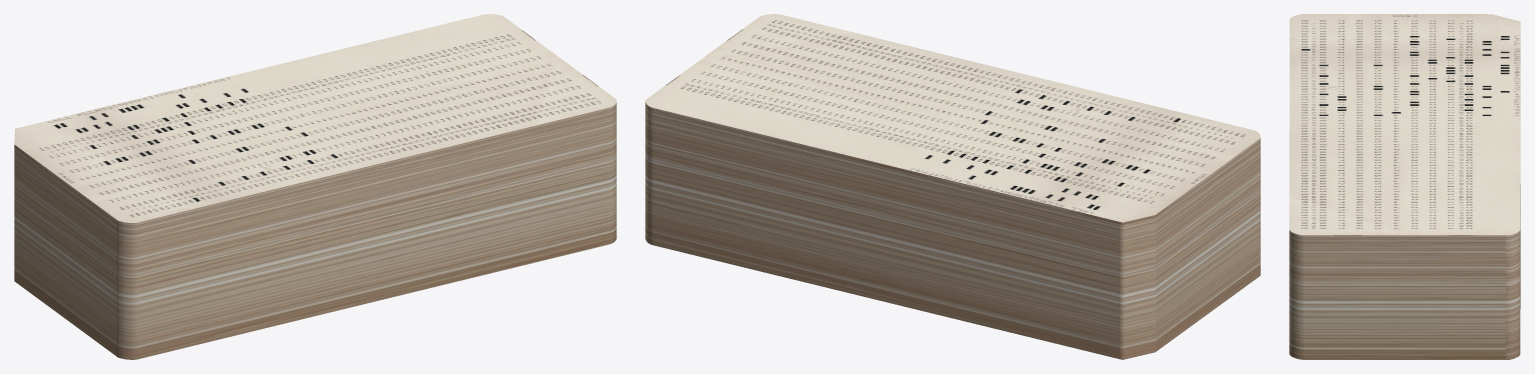
The model's file is punchcard_stack.fbx.
3 views of the same model, side by side, from view 1: azimuth 30°, elevation 25°; view 2: azimuth 150°, elevation 25°; view 3: azimuth 270°, elevation 25° (orthographic). The views are drawn at different scales.
Parts seen in each view (by area): view 1: Punchcard_stack; view 2: Punchcard_stack; view 3: Punchcard_stack.
Part boxes in pixels (box(x1,y1,x2,y2)): Punchcard_stack: box(14, 14, 616, 359); Punchcard_stack: box(645, 14, 1260, 359); Punchcard_stack: box(1289, 14, 1520, 359).
Bounding box in the file's own units: 0.1896 × 0.0497 × 0.0837.
